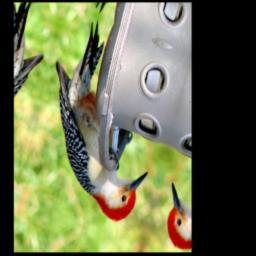Woodpecker: (24, 9, 178, 230)
